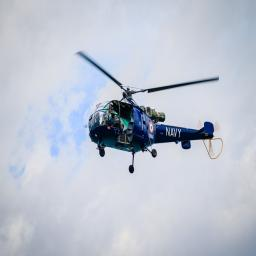helicopter: (75, 52, 223, 175)
